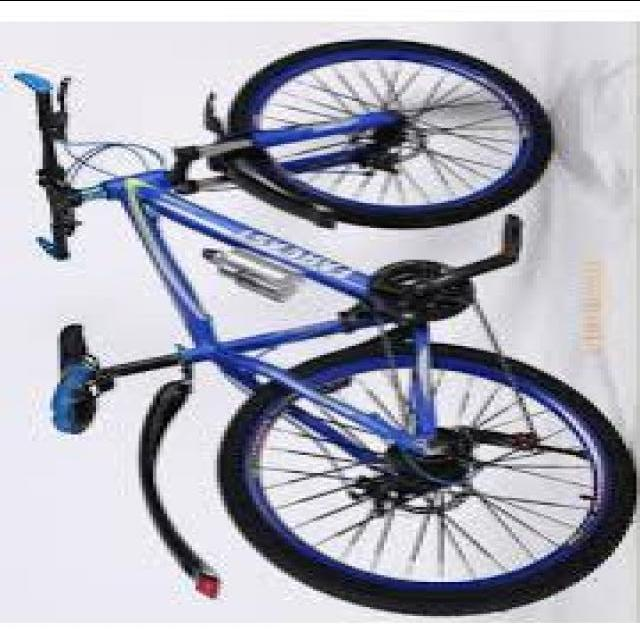bicycle: (22, 38, 616, 616)
